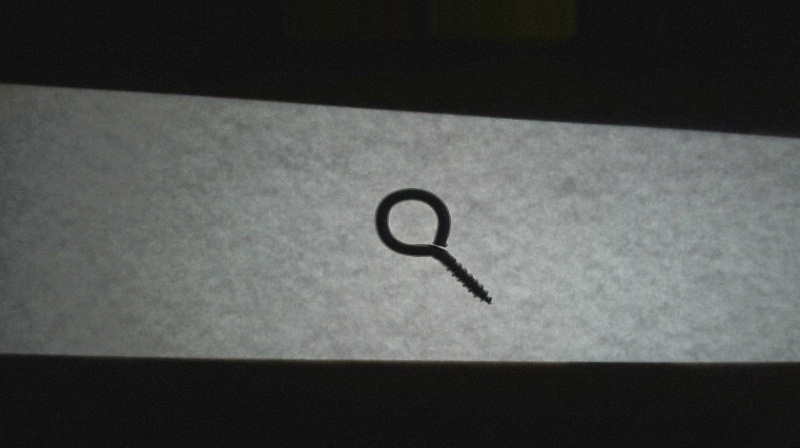O001: (369, 185, 494, 309)
